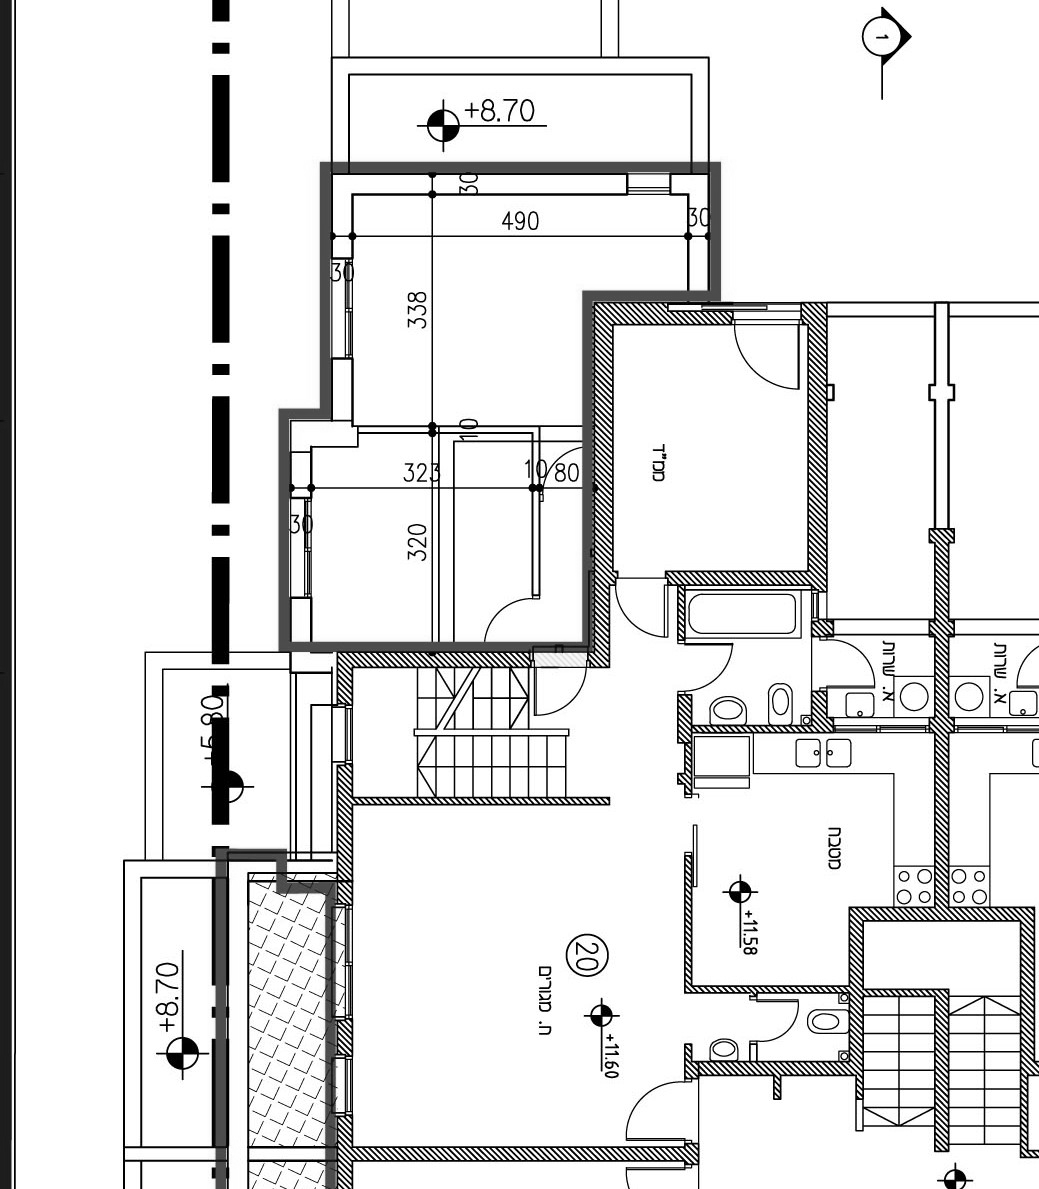door: (731, 328, 811, 402), (530, 670, 606, 727), (621, 1078, 682, 1145), (610, 587, 677, 643), (824, 639, 883, 695), (759, 995, 814, 1051), (687, 638, 742, 694)
wall: (594, 303, 611, 667), (808, 302, 829, 589), (934, 528, 949, 906), (336, 1147, 699, 1162), (847, 906, 1035, 922), (278, 409, 289, 649)
window: (330, 256, 355, 362), (333, 903, 354, 1019), (330, 705, 355, 768), (333, 1055, 356, 1119), (623, 172, 670, 195)
